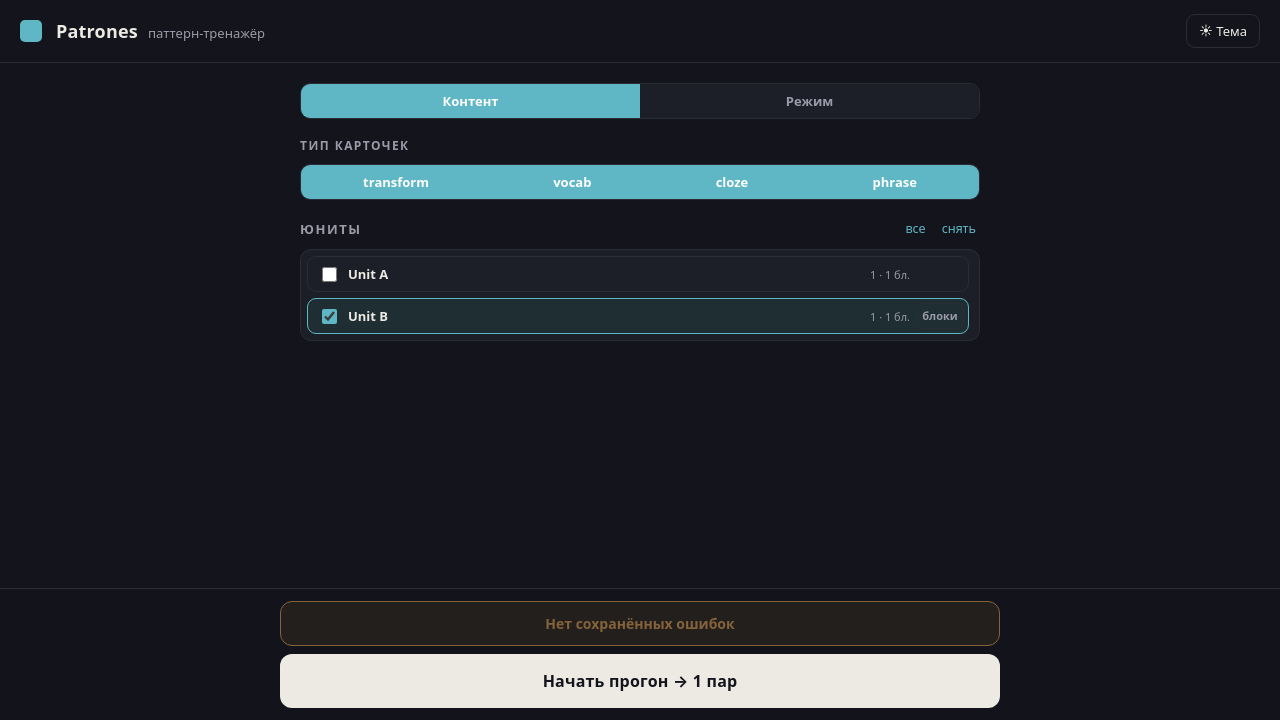
Scenario: App › toggles unit selection by toggle click
The width and height of the screenshot is (1280, 720).
Click the button with class "deck-toggle" showing "Unit A 1 · 1 бл." at [368, 274], box [318, 261, 910, 287]
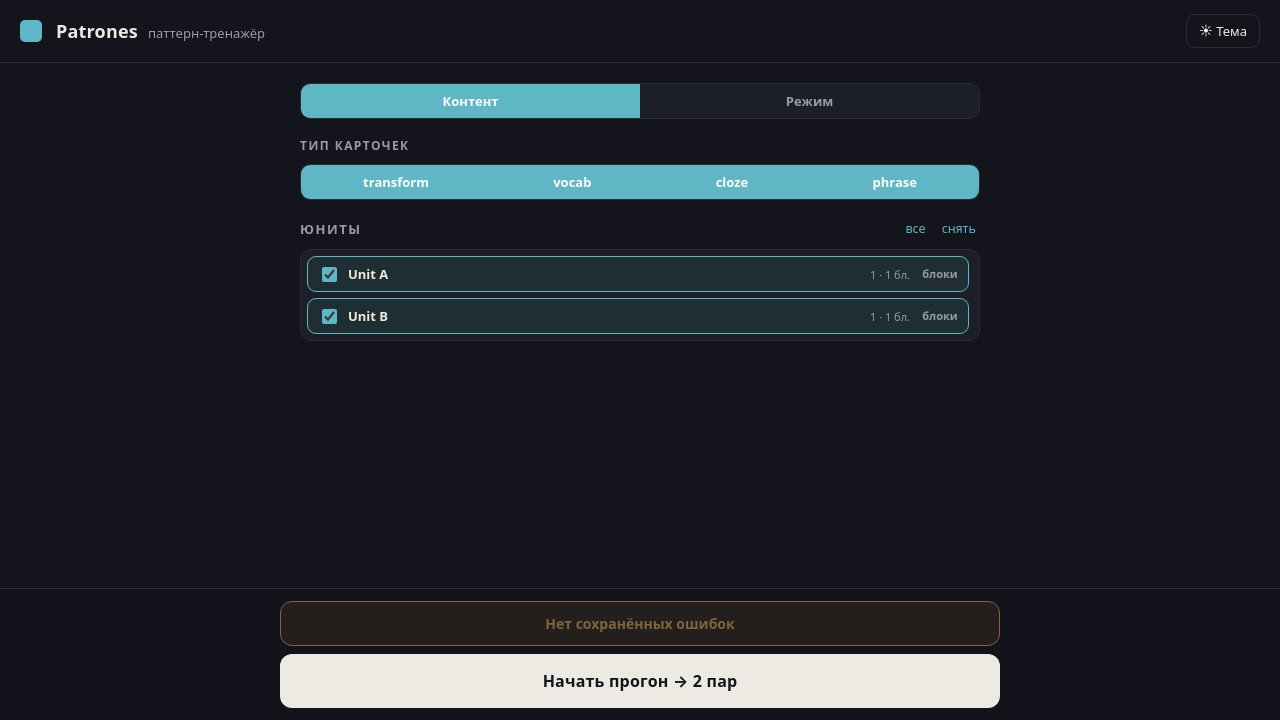
expect the button with class "start" is enabled: met, box [280, 654, 1000, 708]
expect the text "Начать прогон → 2 пар" is shown: met, box [280, 654, 1000, 708]
